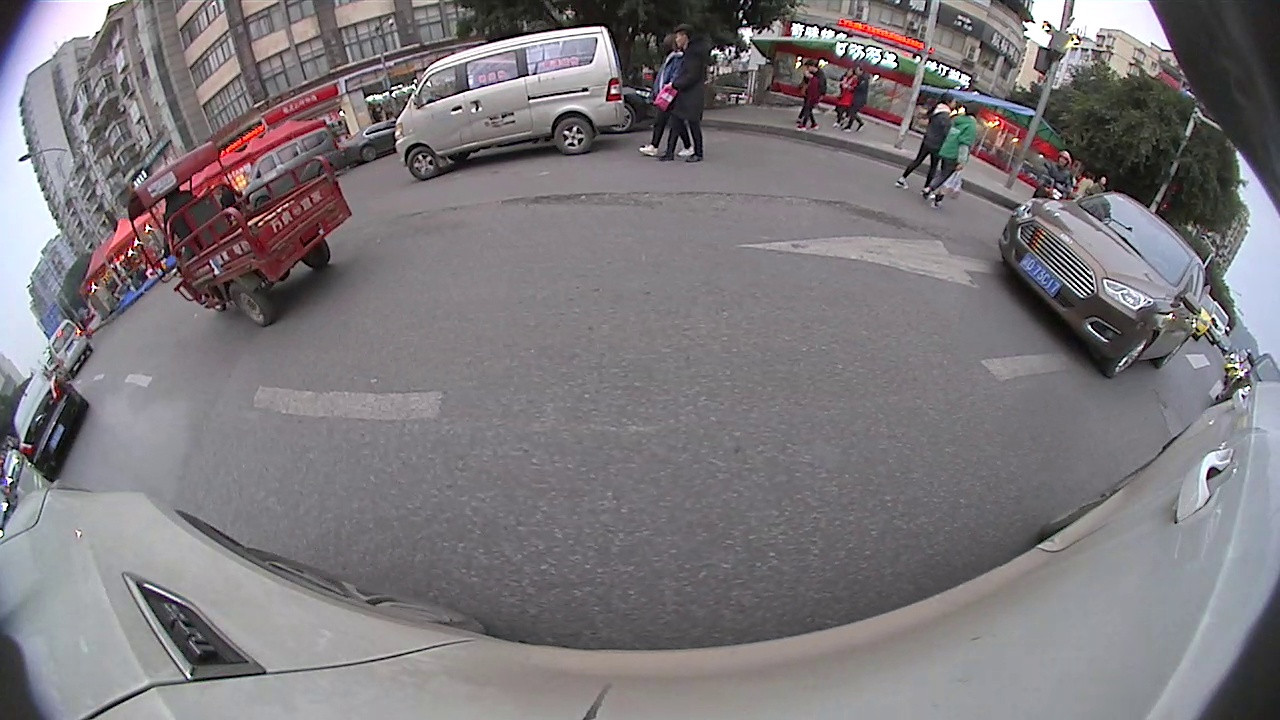car: (995, 191, 1210, 379), (391, 22, 627, 183), (8, 368, 91, 483), (238, 128, 348, 203), (47, 315, 92, 376)
front: (1105, 329, 1154, 381), (404, 145, 447, 183)
person: (671, 22, 712, 165), (920, 84, 958, 203), (944, 100, 981, 207)
rear: (226, 278, 274, 330), (549, 115, 596, 159)
rider: (125, 141, 353, 330)
